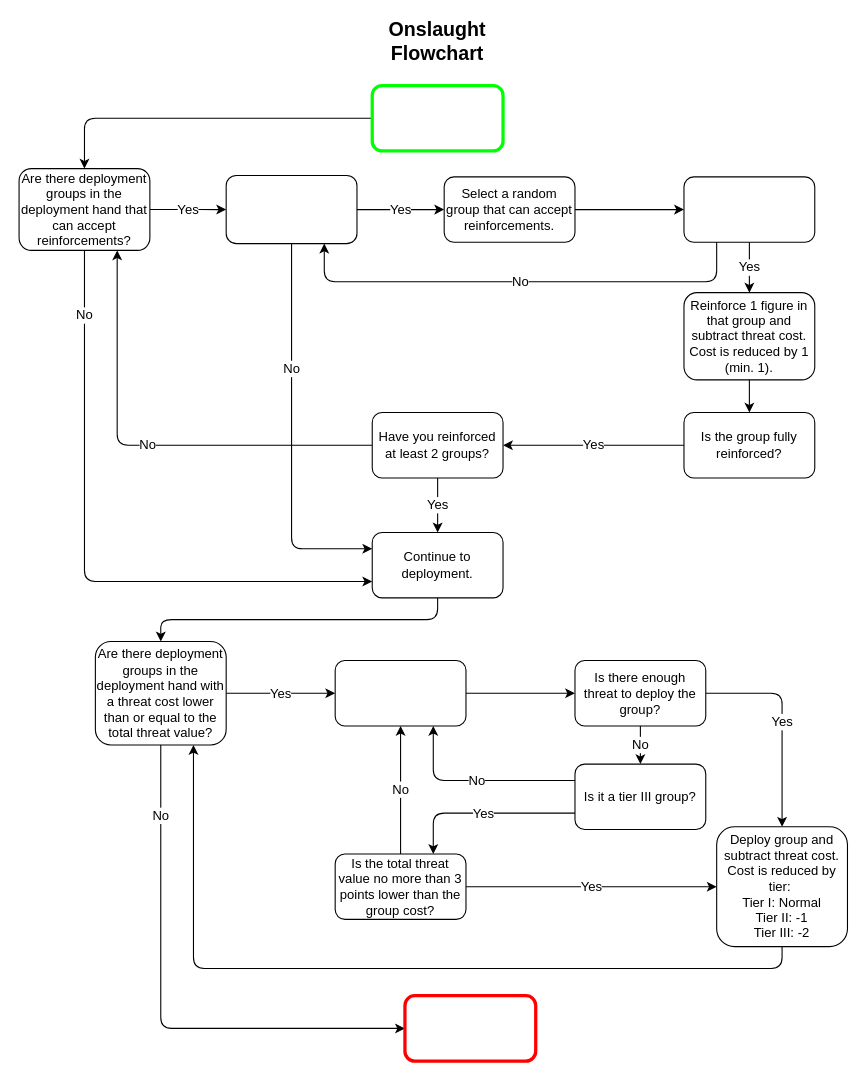
Image size: 867x1081. Some labels were removed from this diagram. Each missing label, with the centre of its shape:
"End deployment. Set DM to minus 2." goes at [470,1028].
"Increase threat by 2." goes at [437,117].
"Is there enough threat to reinforce figures in any group?" goes at [291,209].
"Is there enough threat to reinforce figures in this group?" goes at [749,209].
"Select a random group from the deployment hand." goes at [400,692].
